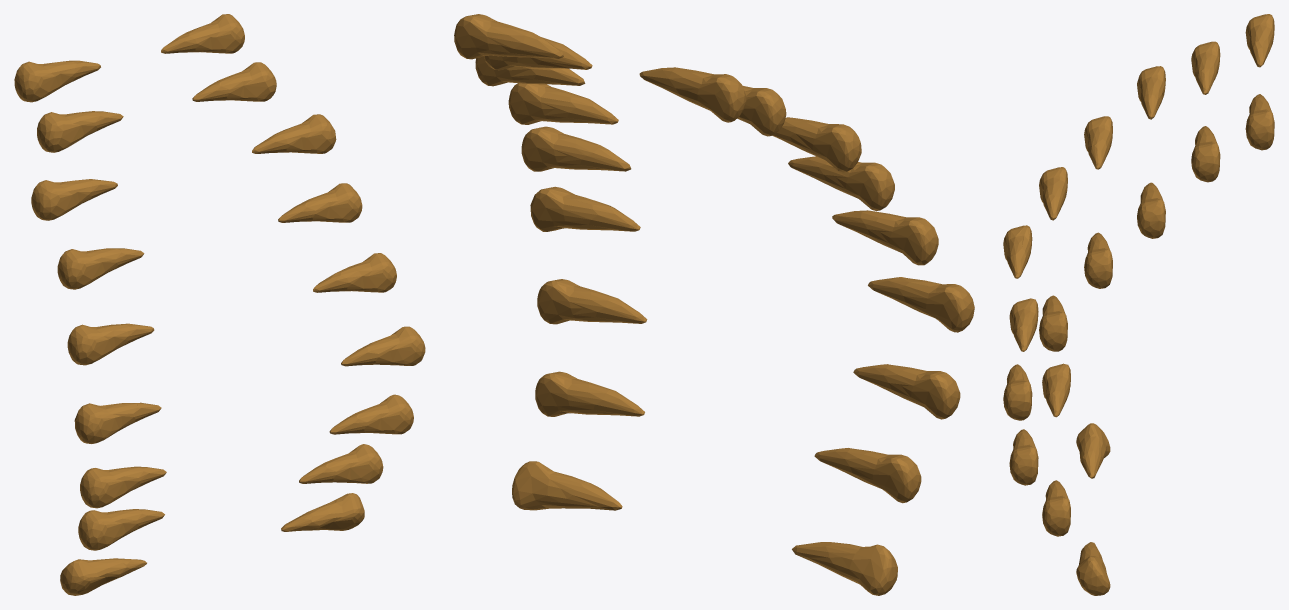
Rendered from MinotaurTeeth.fbx.
The picture shows the model from 3 angles, left to right: view 1: azimuth 30°, elevation 25°; view 2: azimuth 150°, elevation 25°; view 3: azimuth 270°, elevation 25°; orthographic projection. The views are drawn at different scales.
Visible parts, largest first — view 1: Teeth; view 2: Teeth; view 3: Teeth.
Boxes of the visible parts, bbox=[...] form: Teeth: bbox=[14, 14, 425, 595]; Teeth: bbox=[454, 14, 974, 595]; Teeth: bbox=[1003, 14, 1274, 595].
Size of the model in its own units: 137 by 175 by 93.
